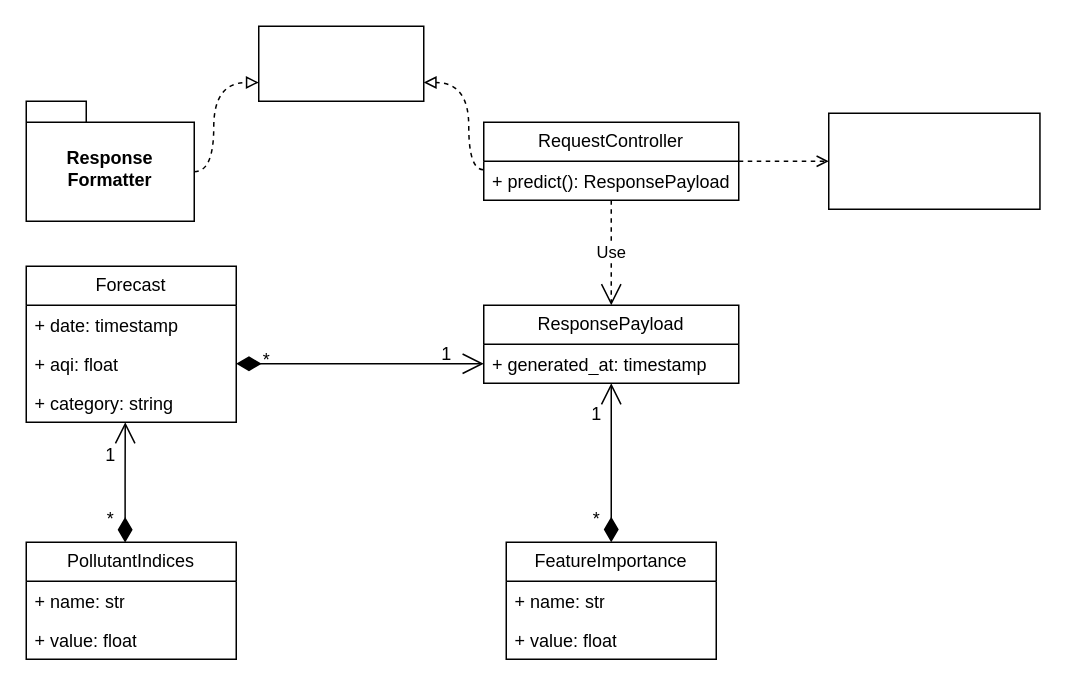
Some shapes in this 1067 by 690 pixel diagram are drawn without their labels. The centre of each missing label's shape, as x and y in pixels:
«interface» PredictionPipelineAPI: [933,160]
«interface» RestAPI: [340,63]
